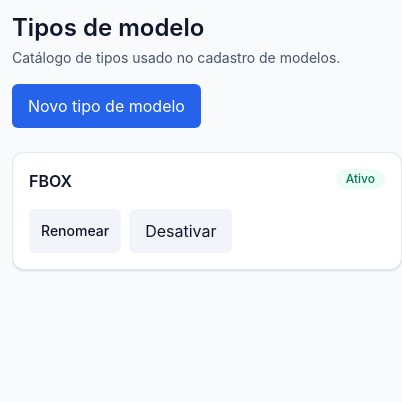
it: TiposModeloPage — ativar e desativar › deve mostrar o erro da operação quando desativar falha
Click the button "Desativar".
click(181, 231)  # box x1=129 y1=209 x2=232 y2=253
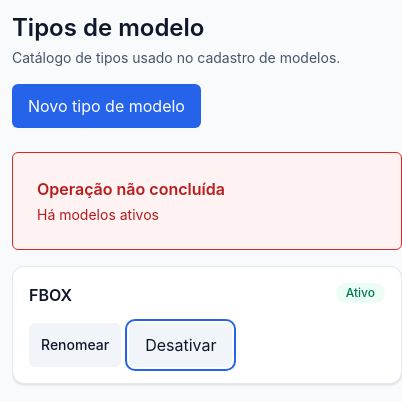
Result: the heading "Operação não concluída" is shown at x1=37 y1=179 x2=225 y2=199
